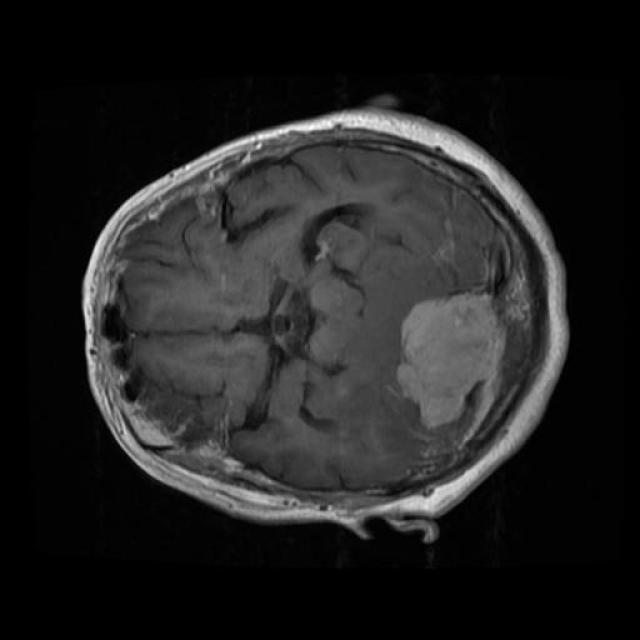Meningioma: (396, 293, 505, 429)
